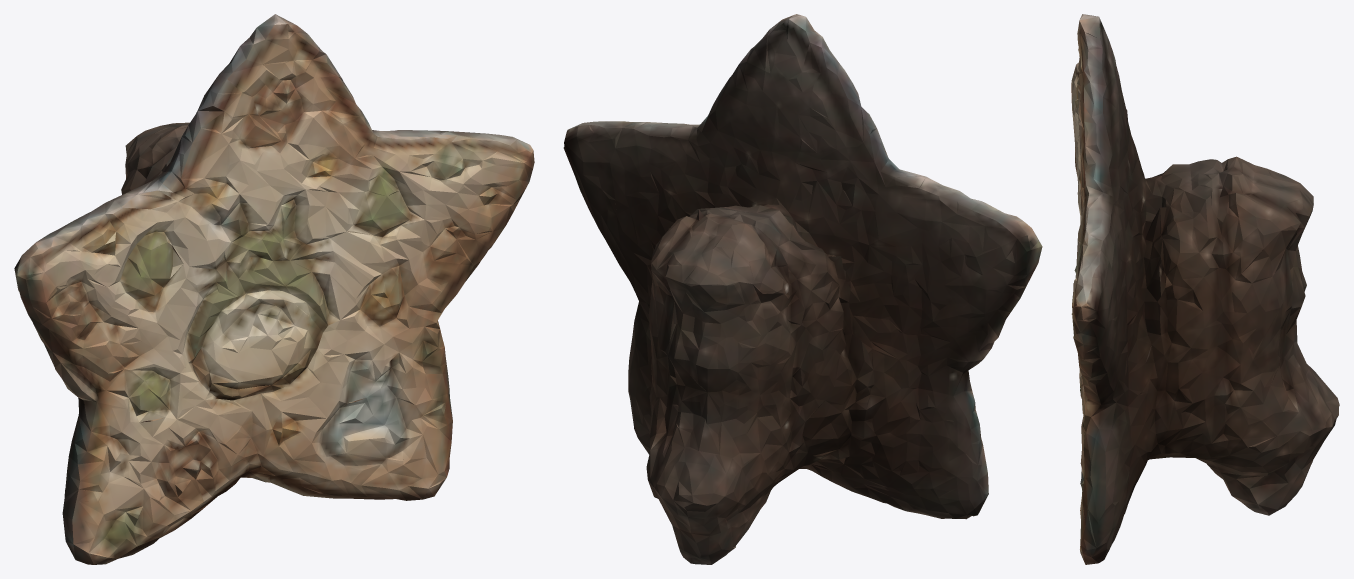
The model's file is daycare_starcushion.glb.
The picture shows the model from 3 angles, left to right: view 1: azimuth 30°, elevation 25°; view 2: azimuth 150°, elevation 25°; view 3: azimuth 270°, elevation 25°; orthographic projection. The views are drawn at different scales.
Visible parts, largest first — view 1: geometry_0; view 2: geometry_0; view 3: geometry_0.
Boxes of the visible parts, x1,y1,x2,y2 form: geometry_0: (14, 14, 534, 564); geometry_0: (563, 14, 1042, 564); geometry_0: (1071, 14, 1339, 564).
Bounding box in the file's own units: 0.4615 × 0.45 × 0.2222.
1 material, 1 textured.
